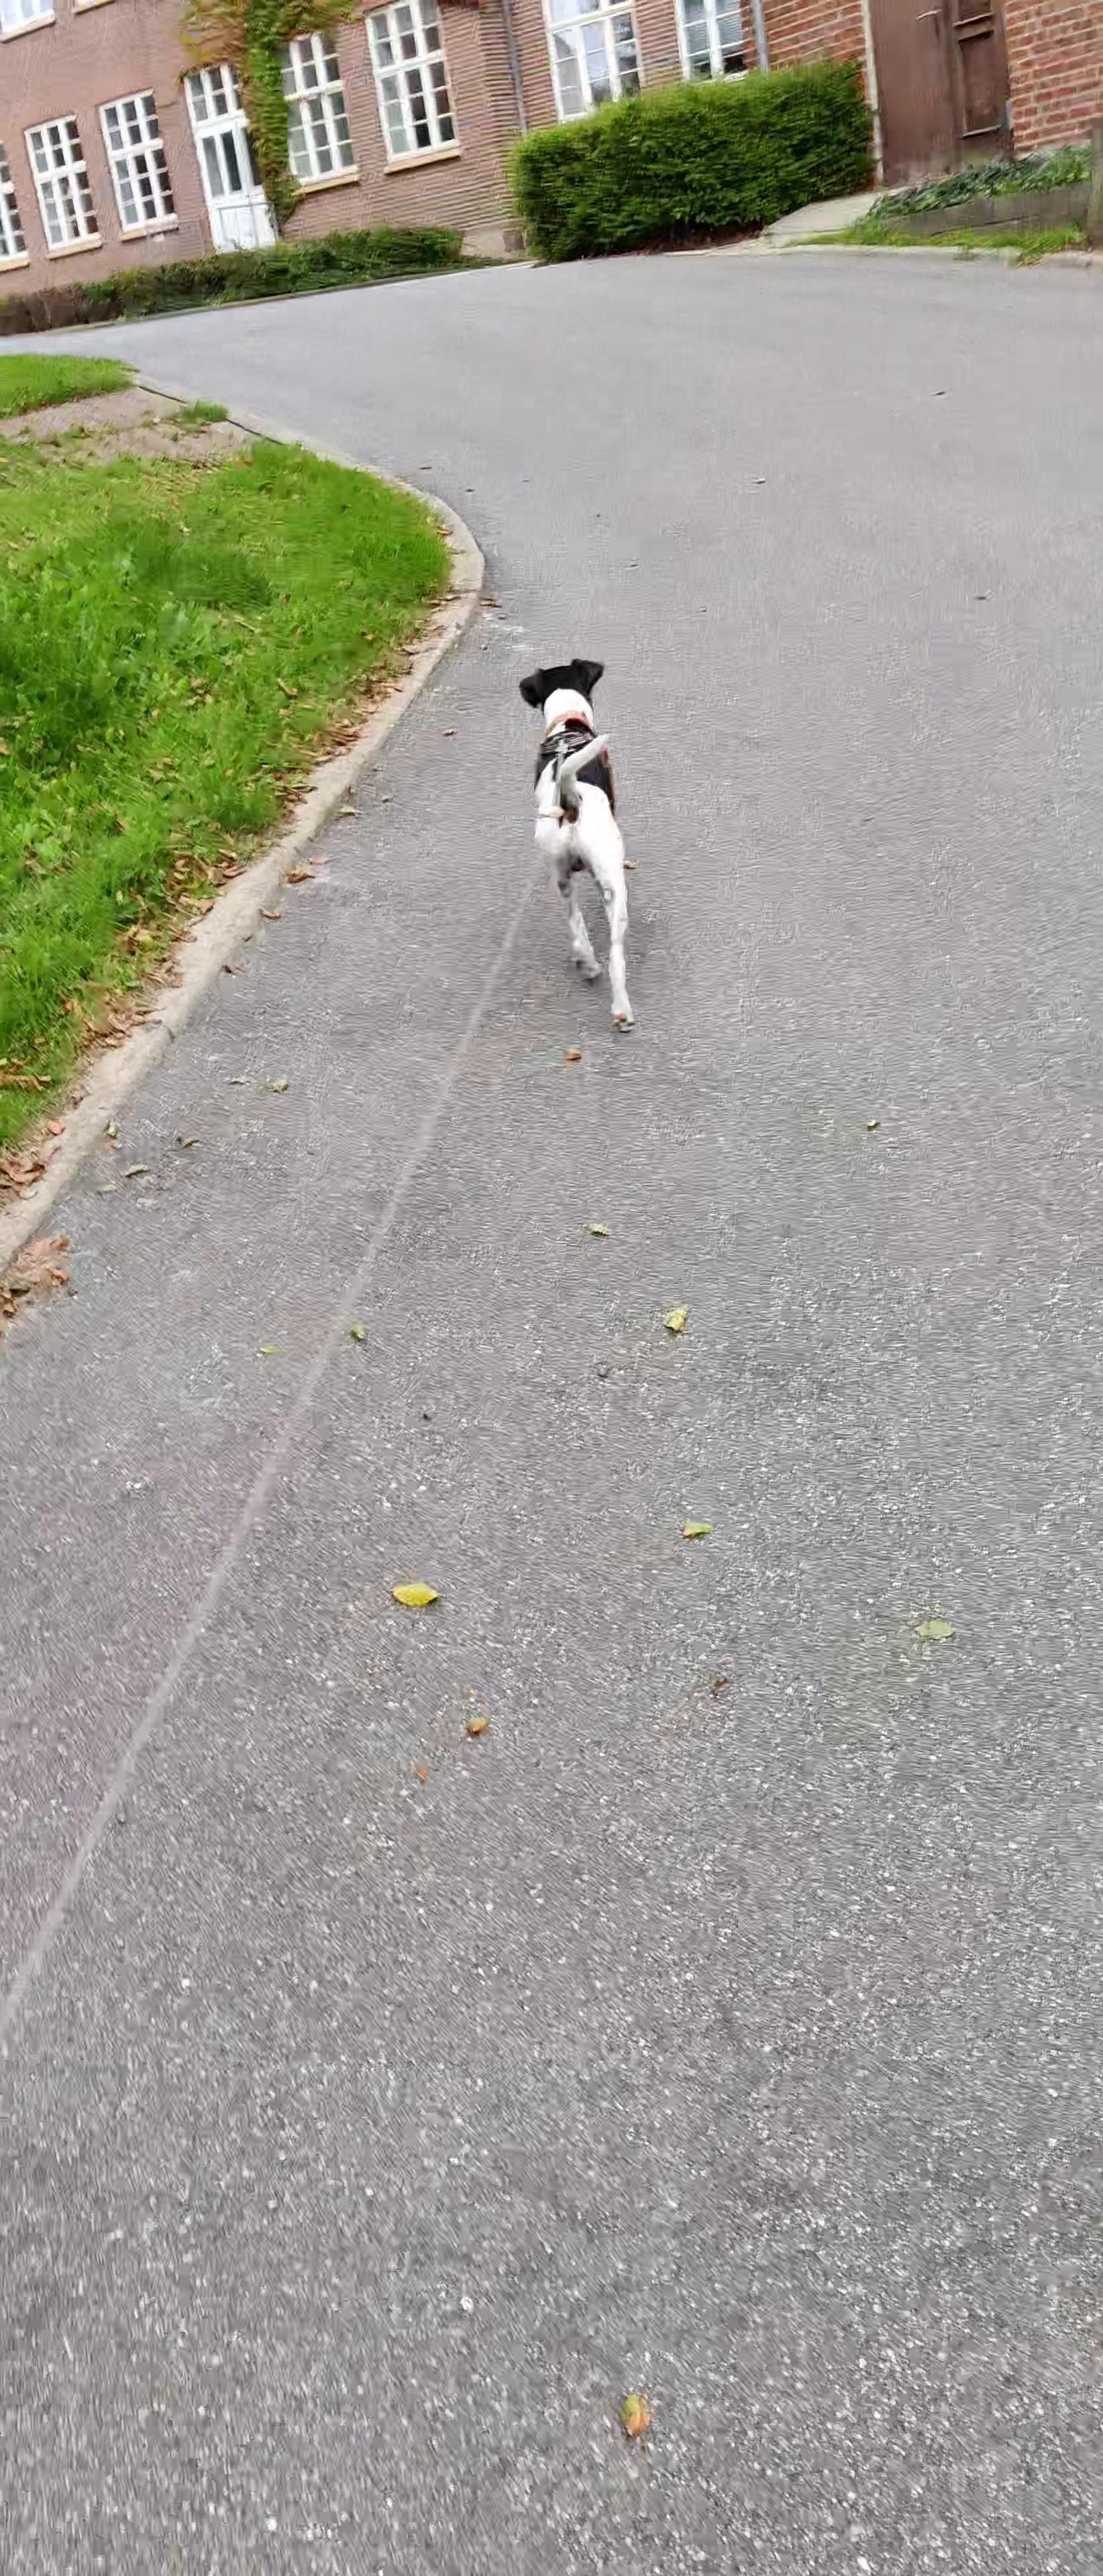Dog: (511, 639, 654, 1050)
